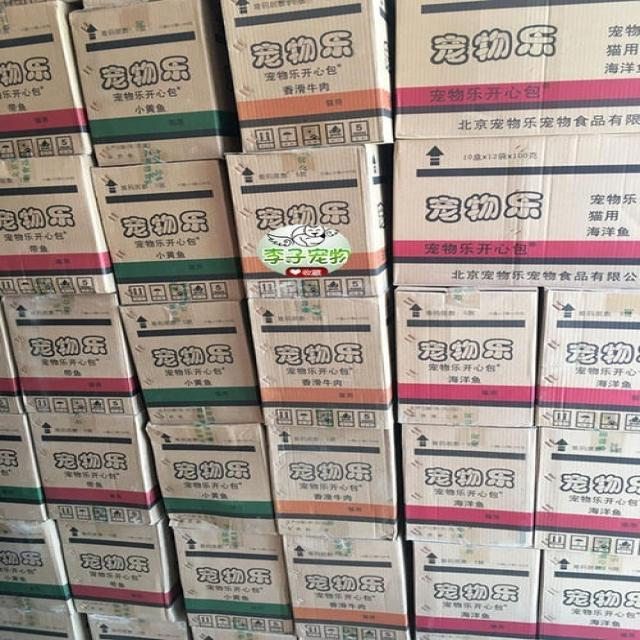box: (393, 131, 640, 288), (396, 0, 640, 139), (219, 0, 394, 151), (225, 144, 392, 299), (91, 160, 244, 305), (247, 291, 396, 429), (394, 286, 538, 427), (118, 301, 264, 425), (402, 424, 538, 547), (0, 154, 115, 296), (29, 410, 163, 524), (266, 425, 398, 539), (535, 288, 640, 431), (145, 421, 276, 535), (0, 1, 91, 157), (283, 534, 412, 640), (535, 427, 640, 556), (170, 526, 293, 633), (56, 521, 184, 619), (413, 541, 540, 639), (538, 550, 640, 639), (0, 415, 47, 520), (87, 610, 187, 639), (0, 608, 90, 638), (1, 311, 23, 414), (193, 627, 296, 639)
